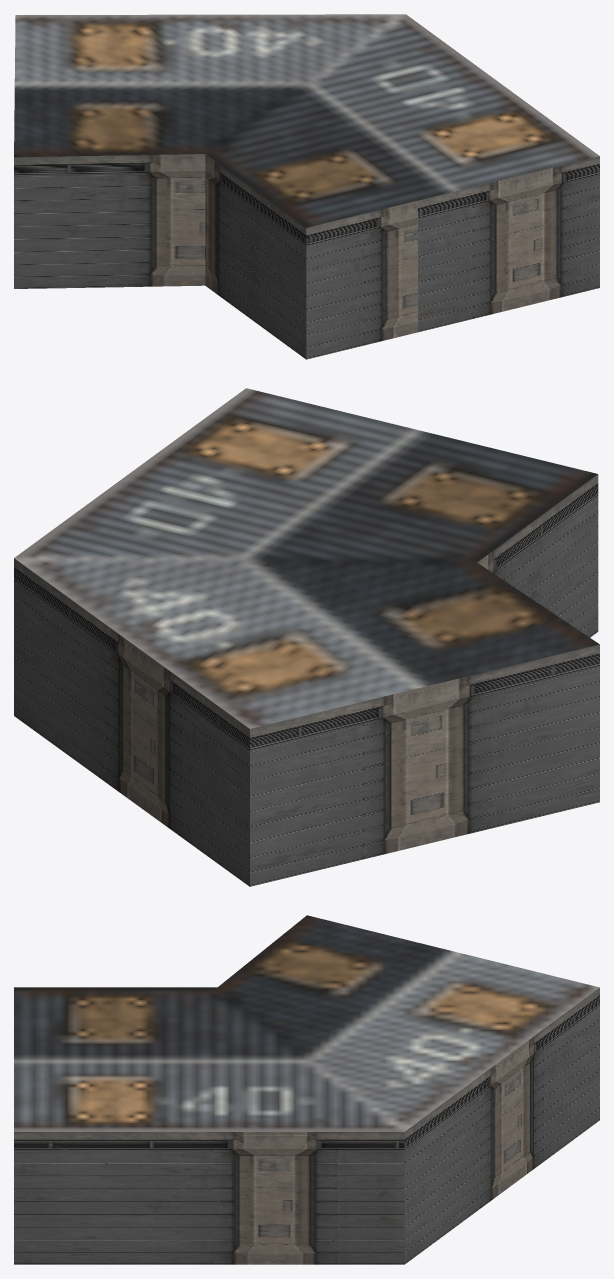
Rendered from hangar_light_a_40.glb.
The picture shows the model from 3 angles, top to bottom: view 1: azimuth 30°, elevation 25°; view 2: azimuth 150°, elevation 25°; view 3: azimuth 270°, elevation 25°; orthographic projection. The views are drawn at different scales.
Visible parts, largest first — view 1: buildings/saxarba/hangar_light/hangar_light_a_40; view 2: buildings/saxarba/hangar_light/hangar_light_a_40; view 3: buildings/saxarba/hangar_light/hangar_light_a_40.
Boxes of the visible parts, box(x1,y1,x2,y2) form: buildings/saxarba/hangar_light/hangar_light_a_40: box(14, 14, 599, 359); buildings/saxarba/hangar_light/hangar_light_a_40: box(14, 388, 599, 886); buildings/saxarba/hangar_light/hangar_light_a_40: box(14, 915, 599, 1264).
Bounding box in the file's own units: 63 × 18 × 72.
